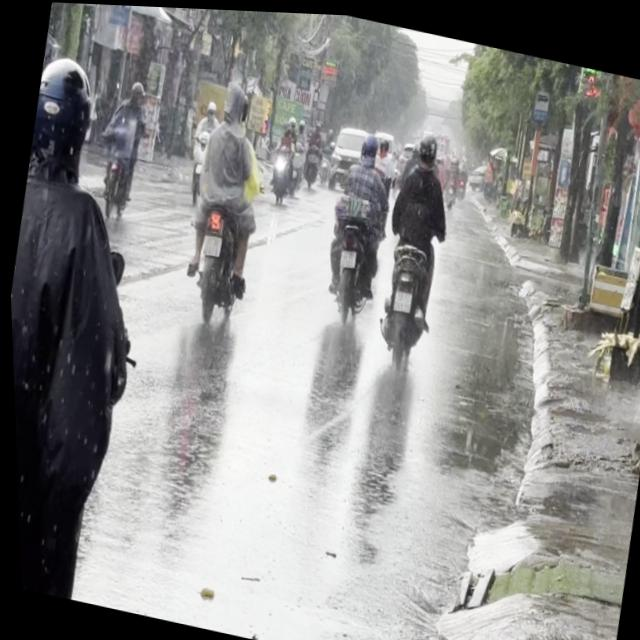helmet: (23, 49, 103, 182), (219, 79, 249, 124), (412, 125, 439, 165), (356, 127, 379, 160)
licenseplate: (1, 41, 191, 608), (161, 72, 282, 340), (358, 117, 465, 373), (307, 119, 403, 327)
nohelmet: (199, 231, 220, 254), (390, 287, 410, 310), (337, 247, 354, 265)
